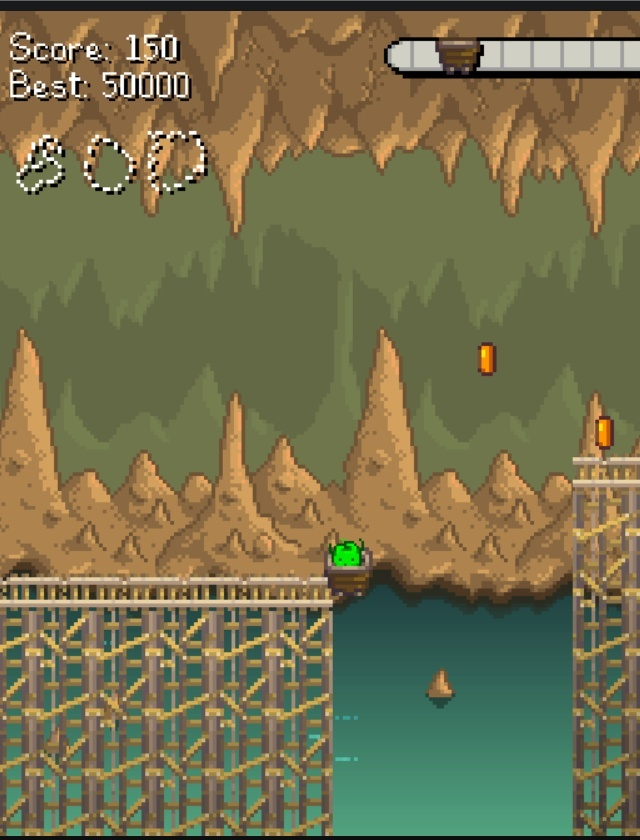coins: (595, 416, 613, 452), (478, 342, 496, 375)
minecart: (325, 540, 371, 594)
tracks: (0, 568, 322, 620), (561, 451, 640, 490)
